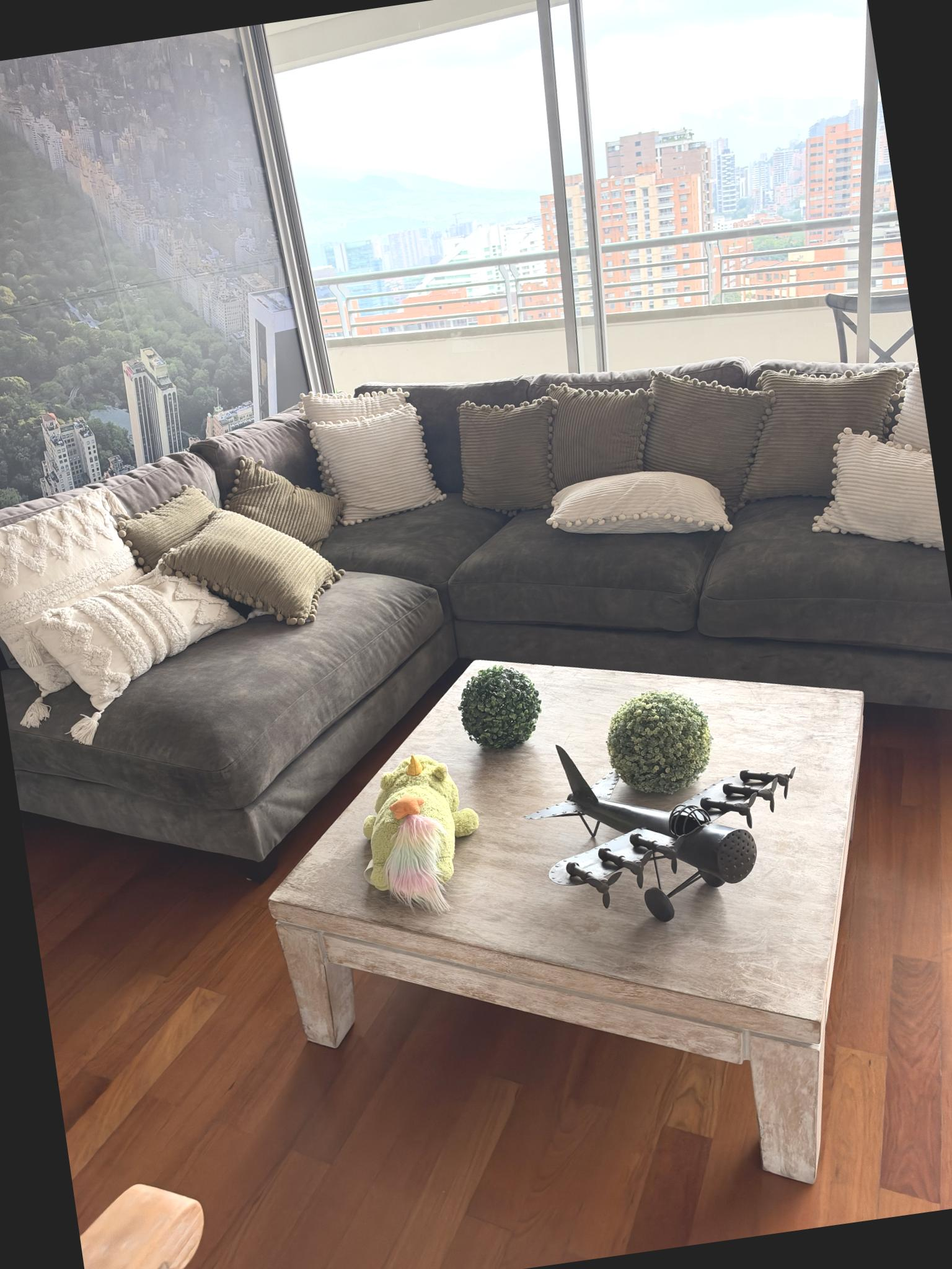peluche_martin: (353, 746, 492, 923)
